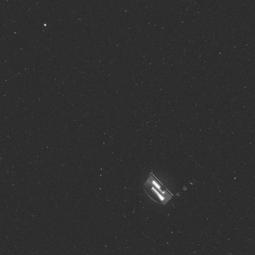proba_3_ocs: (132, 160, 207, 212)
